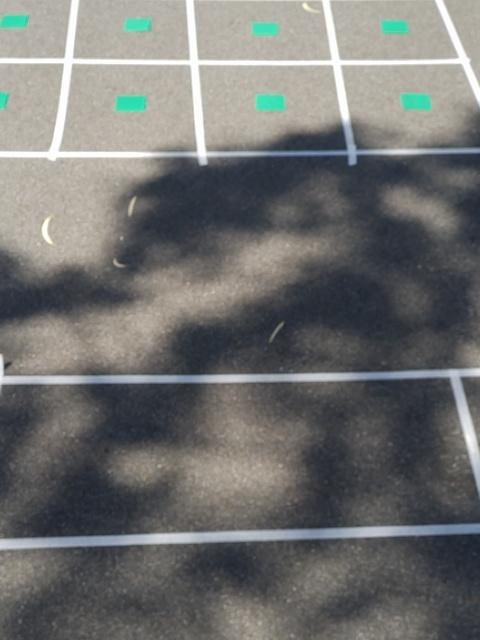weed: (113, 93, 147, 115), (255, 93, 287, 113), (249, 20, 280, 39), (401, 92, 432, 111), (0, 12, 30, 29), (122, 17, 152, 34), (381, 17, 410, 34), (0, 89, 10, 107)
